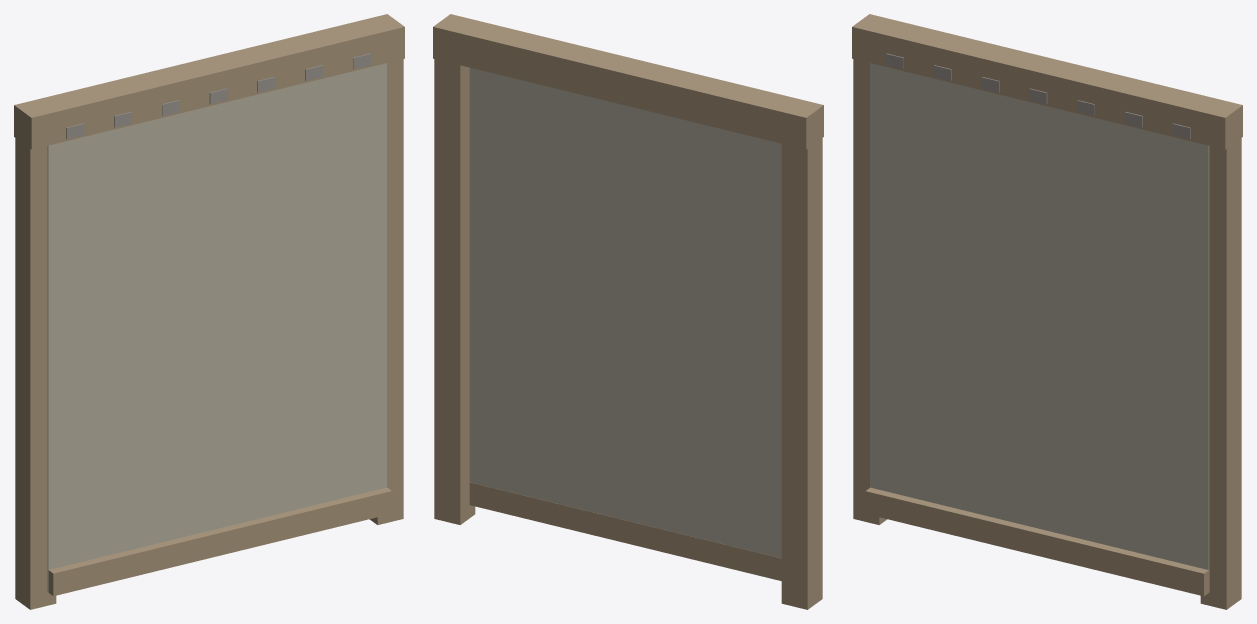
The model's file is trench-line-1917-gas-curtain-frame-8760512d__24068.glb.
3 views of the same model, side by side, from view 1: azimuth 30°, elevation 25°; view 2: azimuth 150°, elevation 25°; view 3: azimuth 330°, elevation 25° (orthographic).
Parts seen in each view (by area): view 1: gas-curtain-frame; view 2: gas-curtain-frame; view 3: gas-curtain-frame.
Part boxes in pixels (box(x1,y1,x2,y2)): gas-curtain-frame: box(14, 14, 404, 609); gas-curtain-frame: box(433, 14, 823, 609); gas-curtain-frame: box(852, 14, 1242, 609).
Size of the model in its own units: 1.72 by 2.17 by 0.1738.
